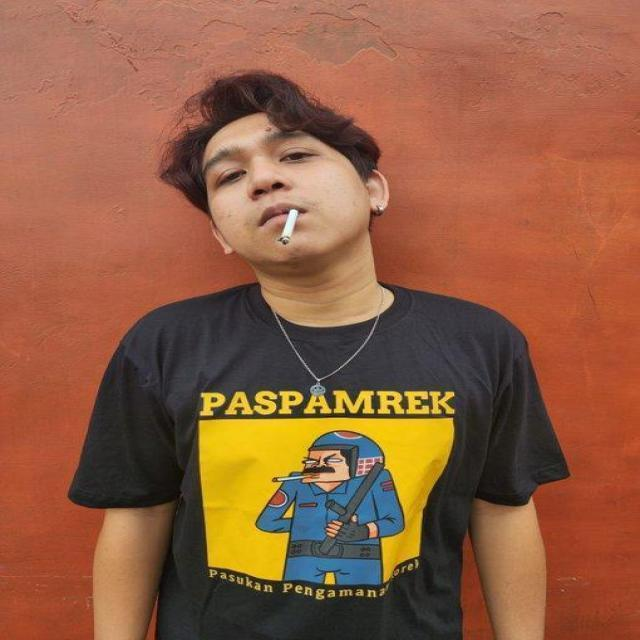rokok: (277, 206, 307, 250)
